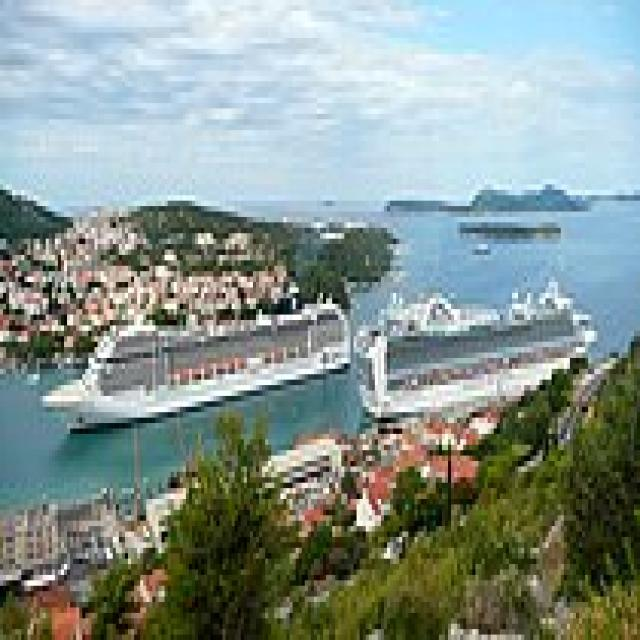Cruise: (37, 282, 350, 434), (348, 260, 598, 418)
